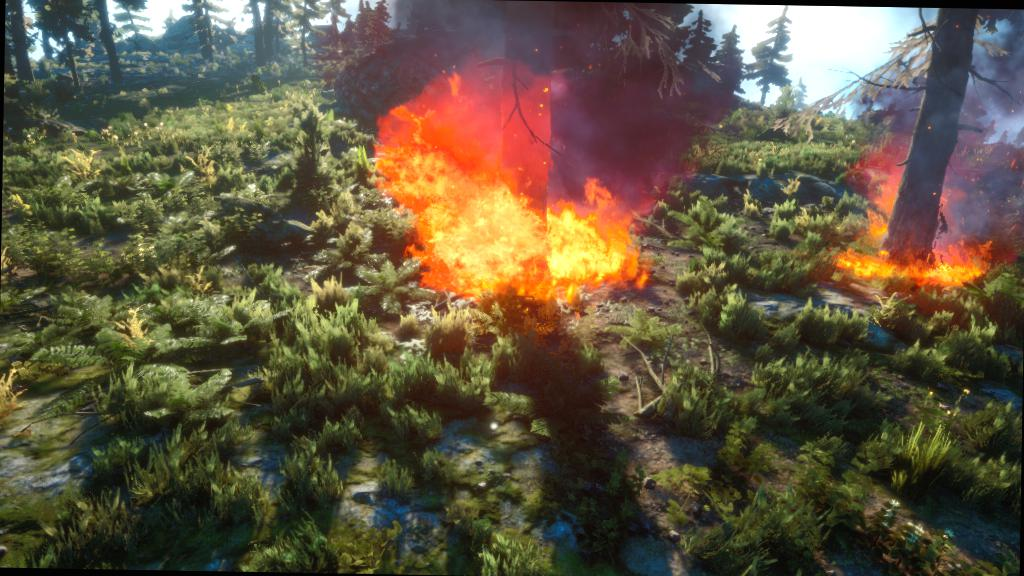Fire: (344, 51, 670, 324), (814, 144, 994, 295)
